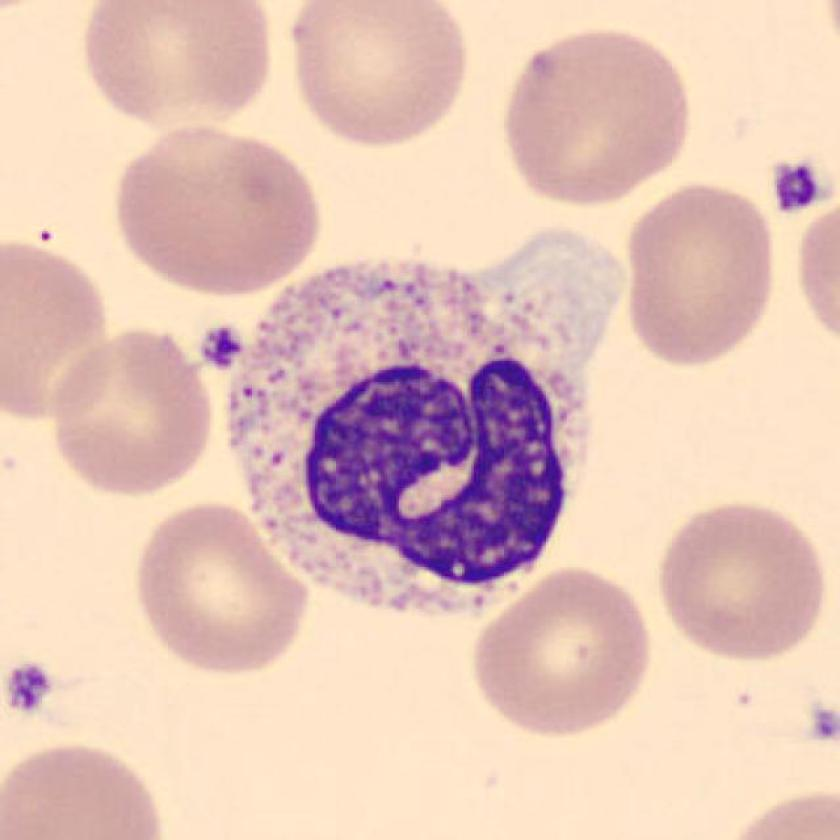neutrophil: (231, 228, 622, 615)
